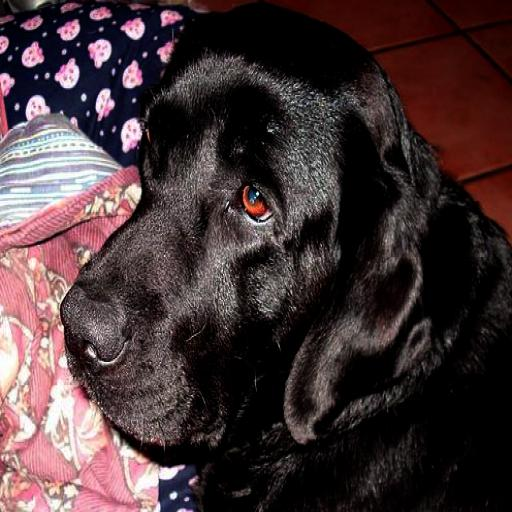dog_face: (62, 16, 420, 446)
